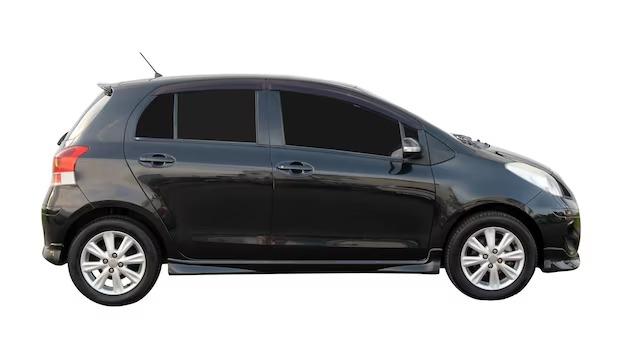car: (19, 66, 597, 310)
